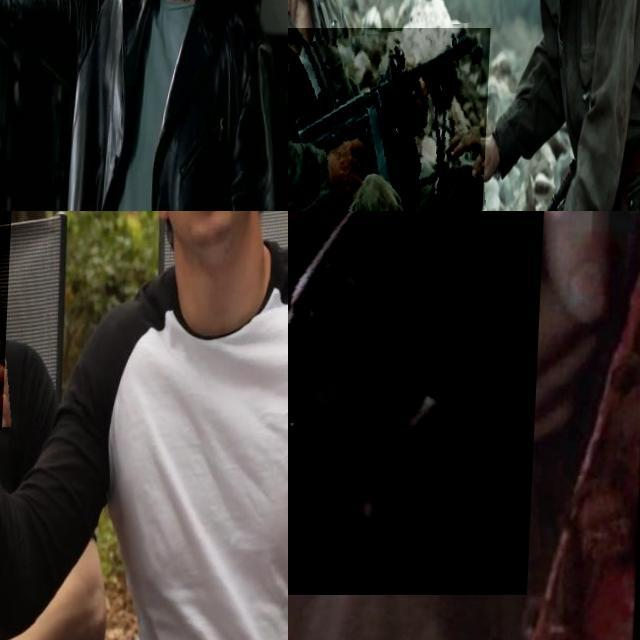-: (0, 211, 35, 430)
gun-knife-thesis - v11 Yolov5 augmented: (288, 211, 547, 595), (288, 27, 494, 211), (0, 0, 42, 69)
